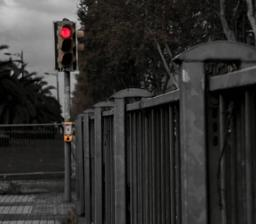red_light: (54, 21, 79, 71)
